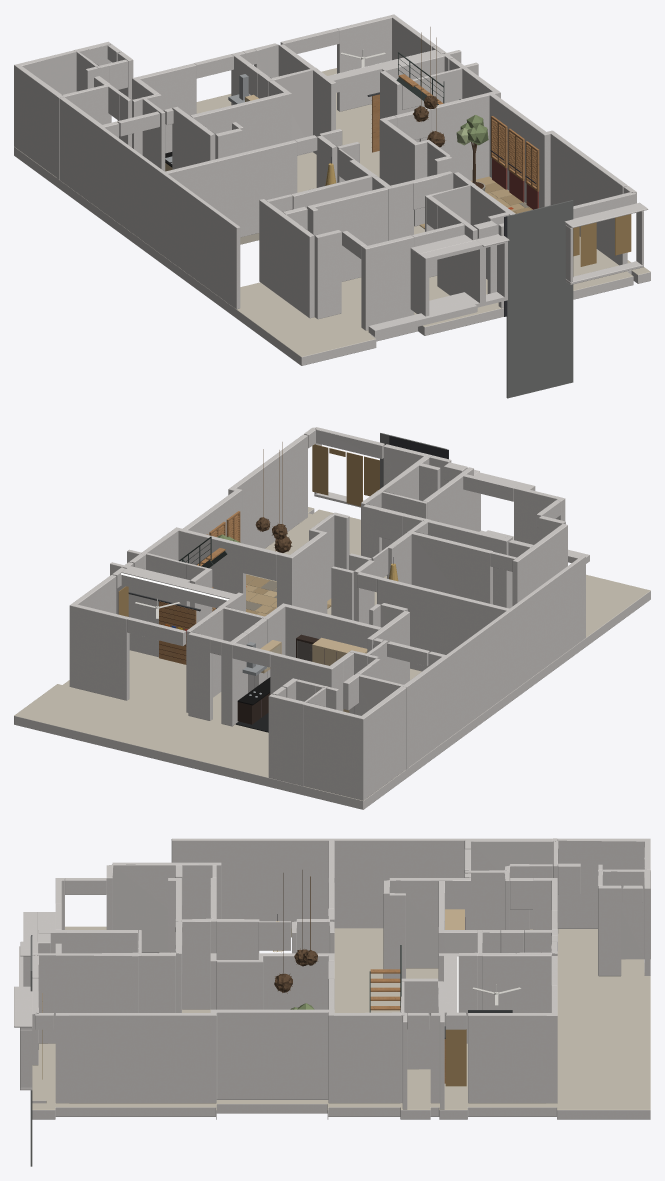
The model's file is first.gltf.
The picture shows the model from 3 angles, top to bottom: view 1: azimuth 30°, elevation 25°; view 2: azimuth 150°, elevation 25°; view 3: azimuth 270°, elevation 25°; orthographic projection. The views are drawn at different scales.
Visible parts, largest first — view 1: Lime White_wall.002, Charcoal Plaster_wall, Terrazzo.002, Lime White.002, Lime White_high.002, Teak.002, Woven Blind, Lime White Shade.001, Red Oxide.001, Woven Twig_high; view 2: Lime White_wall.002, Terrazzo.002, Lime White_high.002, Lime White.002, Woven Blind, Teak.002, Light Wood, Wenge, Woven Twig_high, Cladding; view 3: Lime White_wall.002, Terrazzo.002, Lime White.002, Lime White_high.002, Woven Blind, Teak.002, Woven Twig_high.
Boxes of the visible parts, x1,y1,x2,y2 form: Lime White_wall.002: [14, 14, 627, 330]; Charcoal Plaster_wall: [506, 200, 573, 398]; Terrazzo.002: [16, 68, 650, 356]; Lime White.002: [14, 147, 650, 365]; Lime White_high.002: [107, 28, 636, 258]; Teak.002: [372, 74, 539, 191]; Woven Blind: [573, 214, 631, 266]; Lime White Shade.001: [368, 301, 476, 336]; Red Oxide.001: [492, 158, 538, 209]; Woven Twig_high: [413, 95, 445, 147]; Lime White_wall.002: [69, 434, 585, 800]; Terrazzo.002: [14, 507, 650, 800]; Lime White_high.002: [112, 427, 560, 697]; Lime White.002: [14, 443, 650, 809]; Woven Blind: [118, 444, 379, 616]; Teak.002: [159, 511, 240, 664]; Light Wood: [260, 637, 367, 712]; Wenge: [237, 634, 319, 724]; Woven Twig_high: [255, 517, 292, 552]; Cladding: [389, 436, 448, 459]; Lime White_wall.002: [23, 838, 650, 1109]; Terrazzo.002: [32, 926, 650, 1109]; Lime White.002: [14, 912, 650, 1119]; Lime White_high.002: [32, 849, 642, 1029]; Woven Blind: [42, 993, 466, 1086]; Teak.002: [370, 969, 445, 1083]; Woven Twig_high: [274, 948, 317, 993].
Bounding box in the file's own units: 5.84 × 4.2 × 8.56.
Materials: 45 (6 with a texture image).
